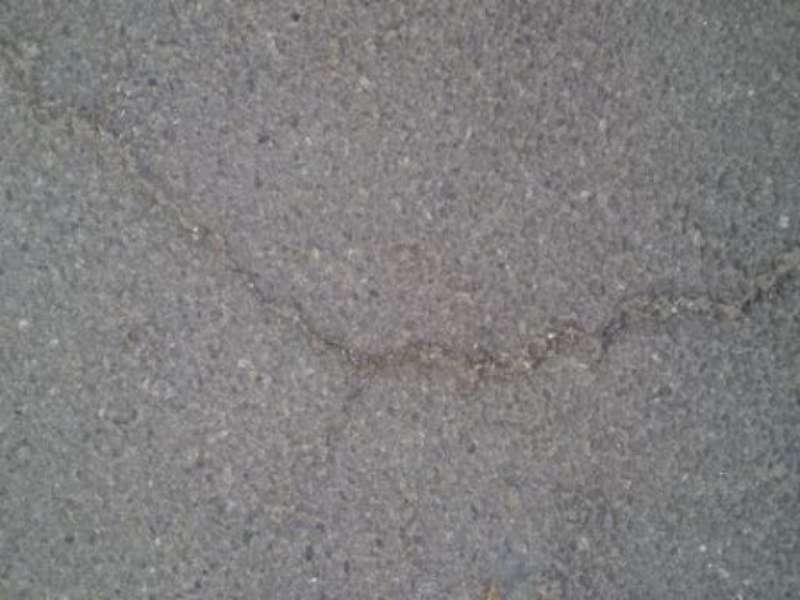crack: (50, 84, 792, 406)
